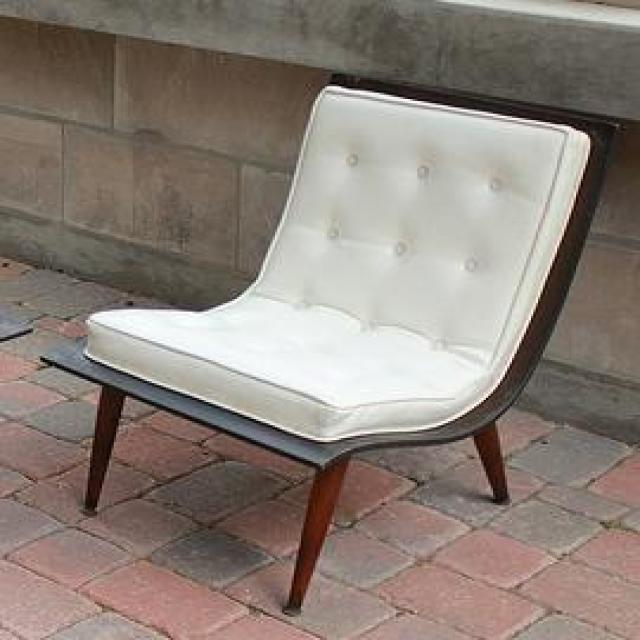chair: (43, 82, 602, 615)
